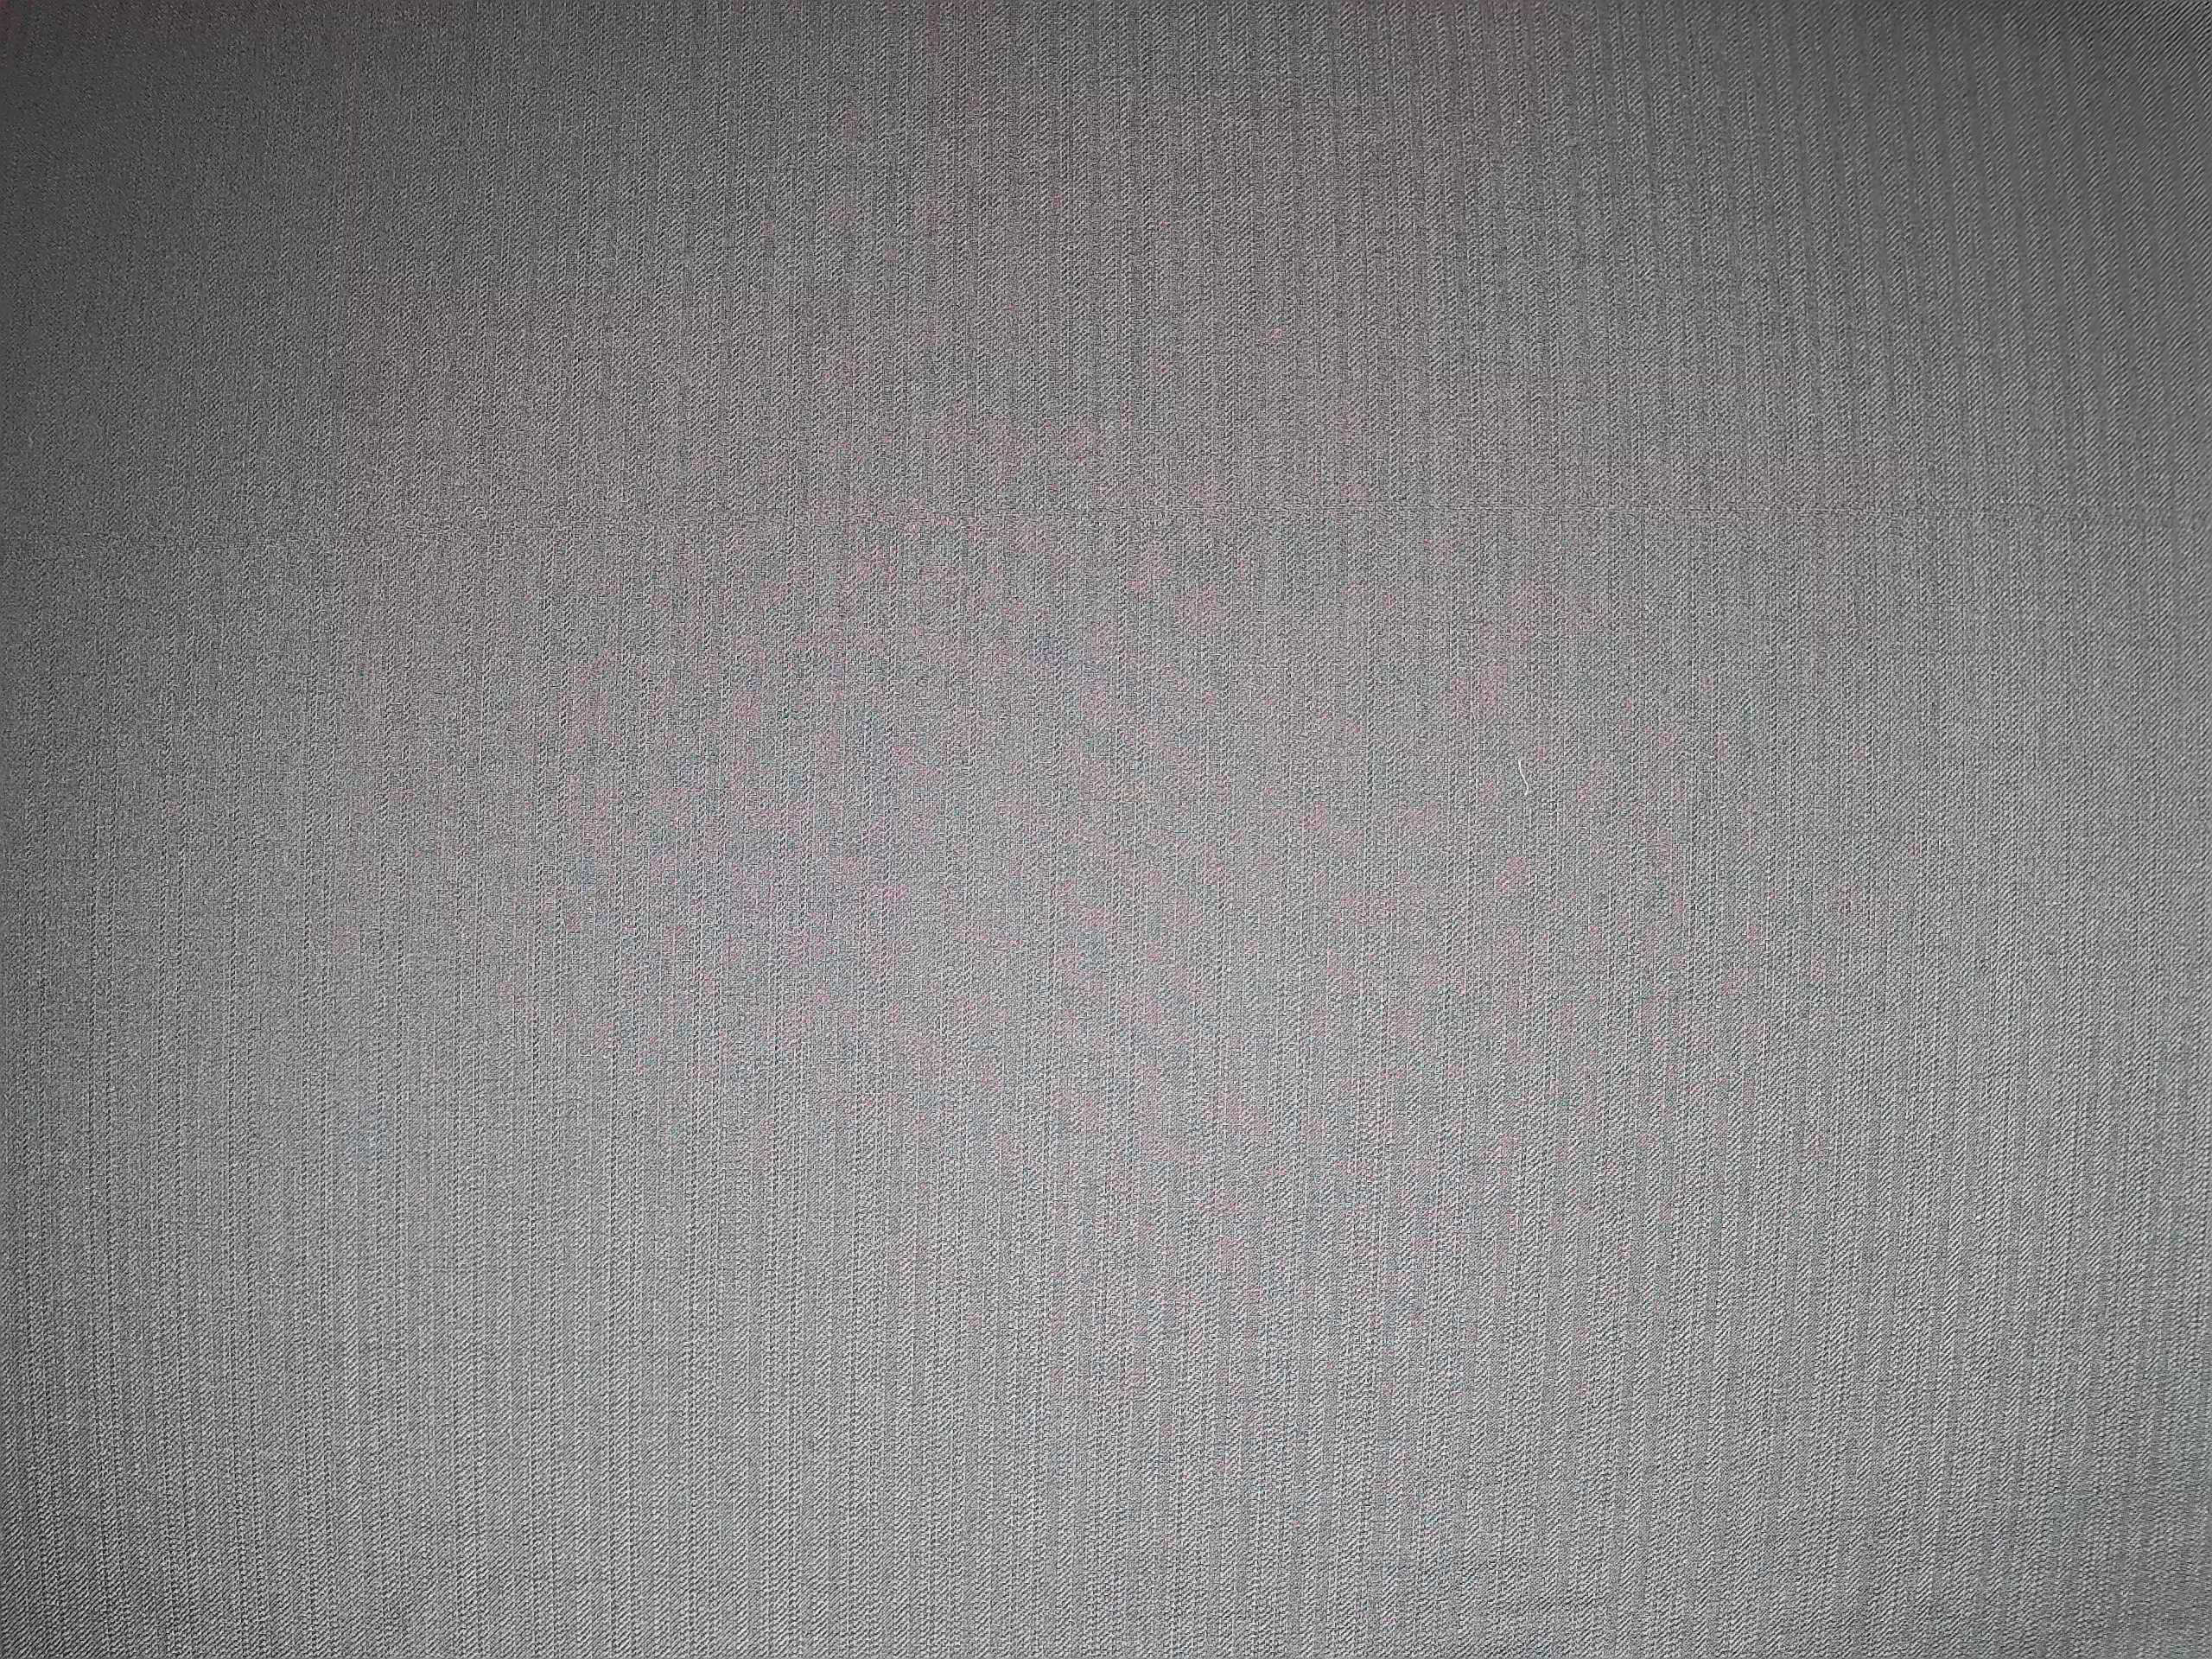missing_pick: (3, 493, 2210, 566)
